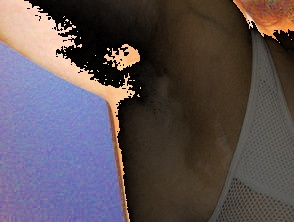vitiligo: (0, 0, 274, 222)
